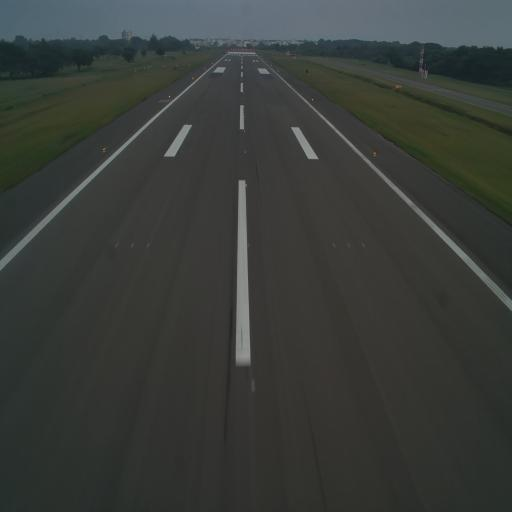off: (358, 237, 366, 253), (144, 238, 151, 253), (346, 236, 352, 252), (330, 241, 338, 252), (114, 238, 120, 252), (130, 240, 136, 250), (246, 240, 251, 250), (180, 148, 184, 156), (299, 148, 302, 158), (290, 150, 294, 156), (189, 147, 192, 154)
on: (248, 373, 256, 394), (371, 148, 378, 160), (242, 148, 248, 158), (100, 147, 107, 155), (241, 126, 247, 135), (243, 181, 249, 189)
